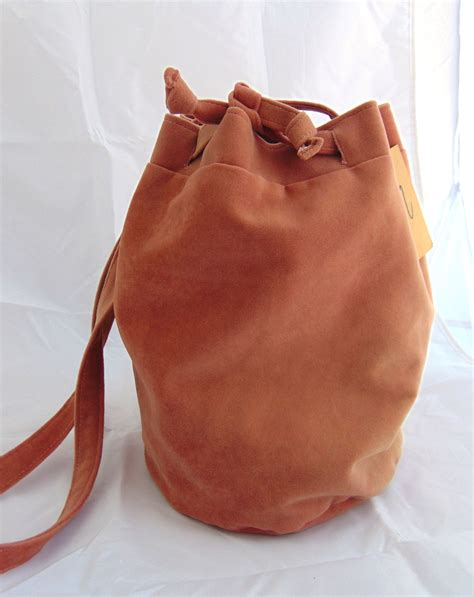gamuza: (115, 68, 433, 536)
